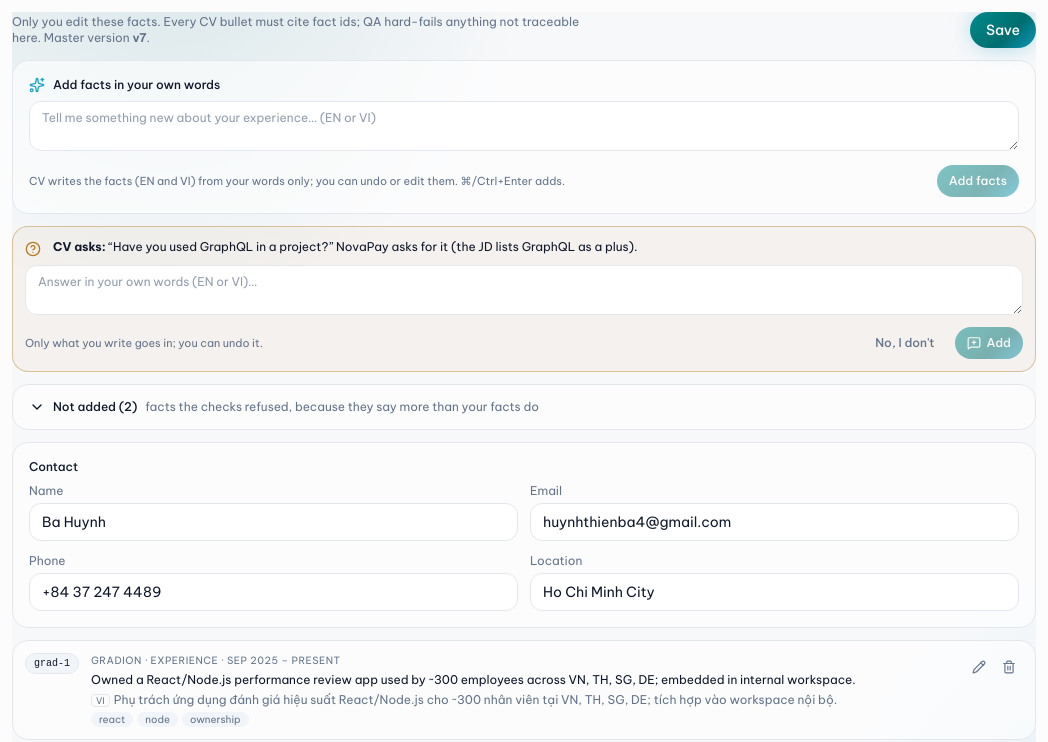
Scenario: derived facts on the Master CV screen › REQ-27 / REQ-28: 'Not added (n)' is collapsed and lists what the checks refused, with why
The width and height of the screenshot is (1048, 742).
Expected: the text "says 10" is not shown
Click the button that starts with "Not added (": (524, 407) [13,385,1035,429]
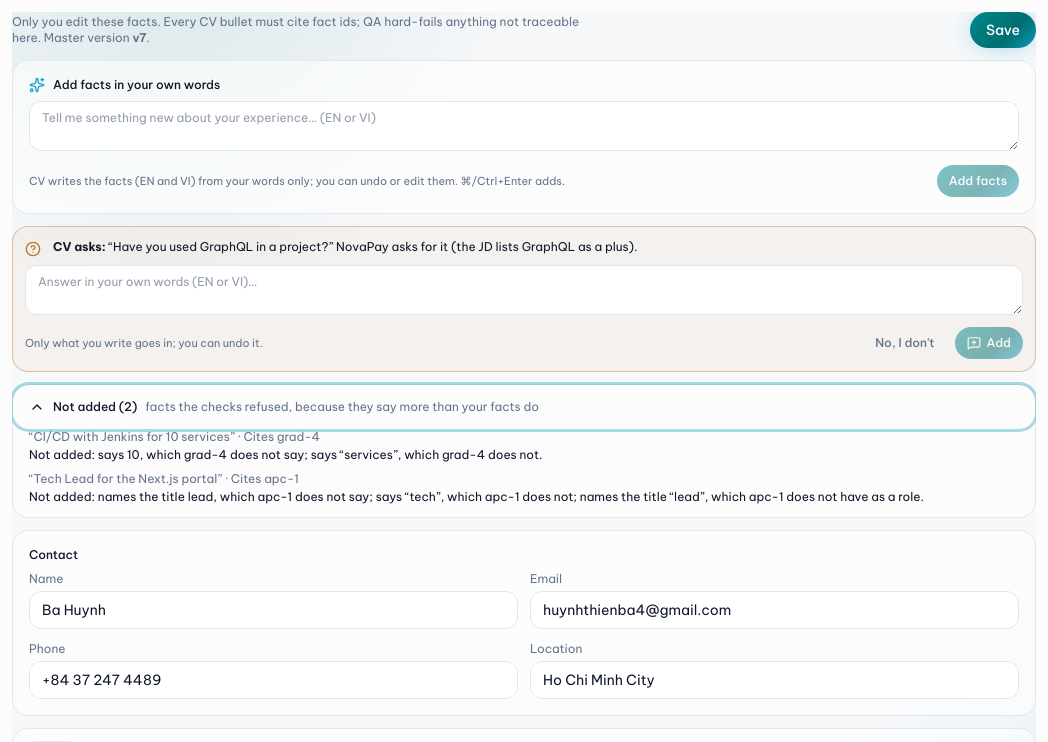
Expected: the element with test id "derived-not-added" shows "Not added: says 10, which grad-4 does not say", [29,447,542,462]
Expected: the element with test id "derived-not-added" shows "names the title lead, which apc-1 does not say", [29,489,924,504]
